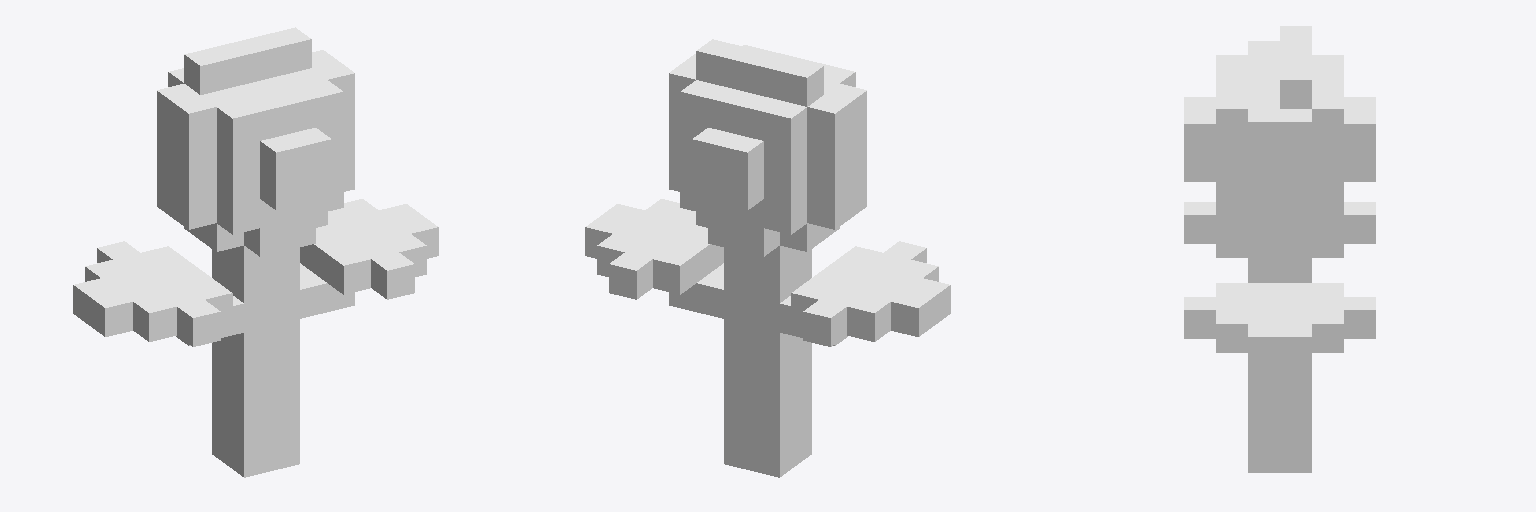
File: ExtrasYellowFlower.obj
3 renders of one model, left to right at view 1: azimuth 30°, elevation 25°; view 2: azimuth 150°, elevation 25°; view 3: azimuth 270°, elevation 25°, orthographic.
Visible parts, largest first — view 1: object 1; view 2: object 1; view 3: object 1.
Part boxes in pixels (bbox=[...]): object 1: bbox=[73, 27, 438, 477]; object 1: bbox=[585, 39, 950, 477]; object 1: bbox=[1184, 26, 1375, 472].
Size of the model in its own units: 1.2 by 1.4 by 0.6.